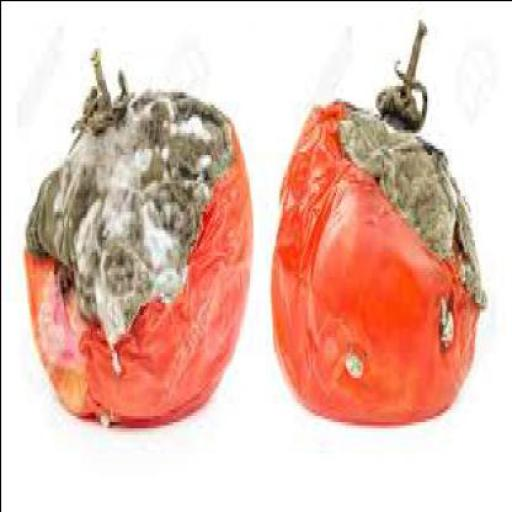biodegradable: (266, 16, 484, 427), (20, 40, 250, 424)
